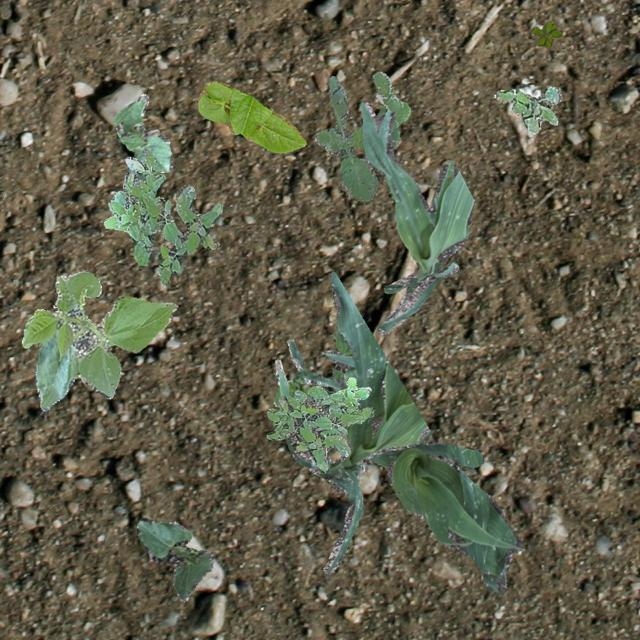crop: (284, 271, 430, 574), (360, 100, 472, 334), (366, 442, 522, 592), (20, 270, 176, 410), (272, 338, 366, 471), (197, 80, 306, 152), (136, 516, 213, 600), (114, 92, 172, 172)
weed: (102, 150, 222, 284), (314, 70, 409, 200), (266, 377, 370, 472), (494, 84, 560, 132), (332, 324, 352, 381), (532, 20, 560, 48)
